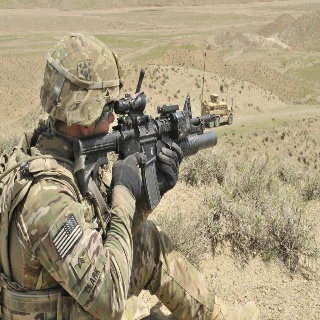rifle: (71, 68, 218, 210)
